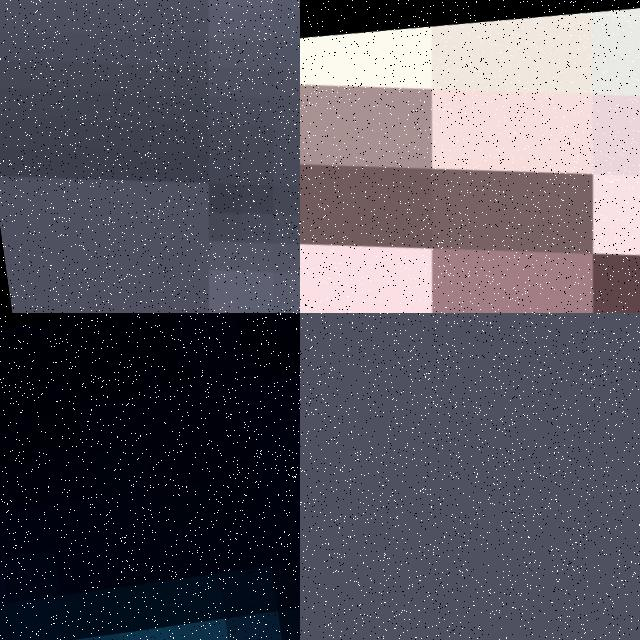drone: (300, 0, 640, 313), (0, 0, 300, 313)
